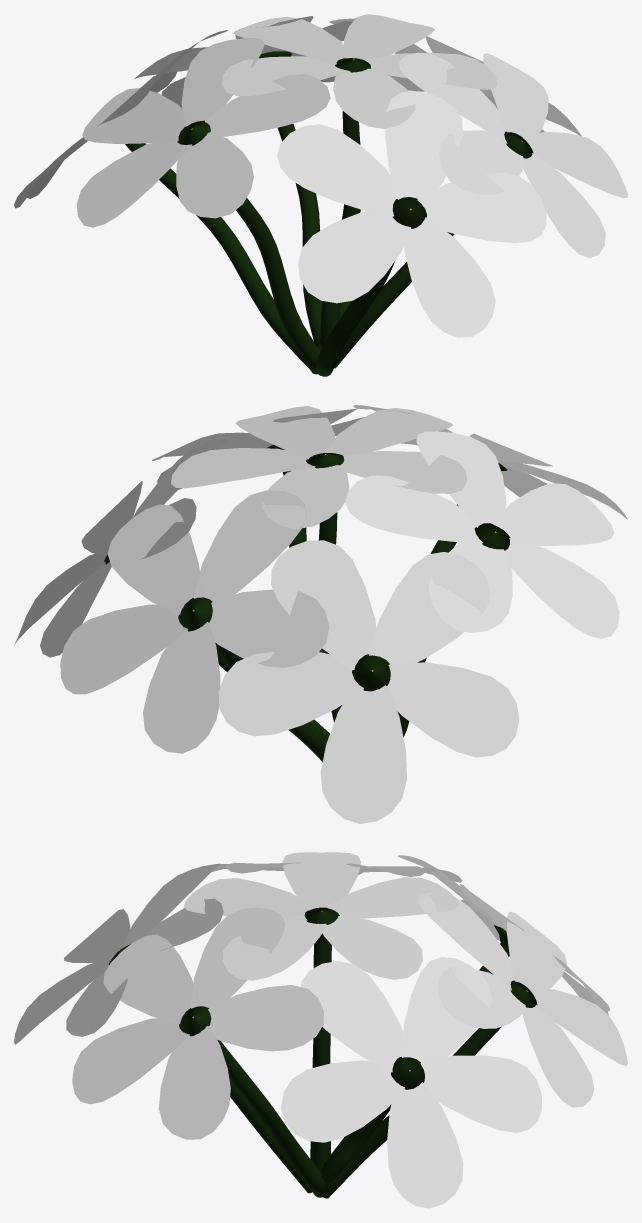
The model's file is Jasmine.fbx.
3 views of the same model, one above another, from view 1: azimuth 30°, elevation 25°; view 2: azimuth 150°, elevation 25°; view 3: azimuth 270°, elevation 25° (orthographic). The views are drawn at different scales.
Visible parts, largest first — view 1: Flower.003, Flower.001, Flower.002, Flower, Flower.005, Flower.004, Flower.006; view 2: Flower.005, Flower.004, Flower.001, Flower, Flower.006, Flower.003, Flower.002; view 3: Flower.006, Flower.002, Flower, Flower.004, Flower.003, Flower.005, Flower.001.
Boxes of the visible parts, x1,y1,x2,y2 form: Flower.003: (277, 90, 546, 376); Flower.001: (76, 37, 330, 374); Flower.002: (334, 52, 627, 368); Flower: (222, 14, 497, 347); Flower.005: (14, 30, 309, 368); Flower.004: (134, 16, 355, 345); Flower.006: (316, 18, 581, 351); Flower.005: (218, 540, 519, 823); Flower.004: (60, 490, 329, 761); Flower.001: (345, 431, 619, 737); Flower: (171, 406, 467, 710); Flower.006: (14, 438, 329, 738); Flower.003: (353, 405, 627, 553); Flower.002: (152, 408, 364, 722); Flower.006: (281, 957, 541, 1208); Flower.002: (72, 907, 325, 1197); Flower: (184, 852, 458, 1183); Flower.004: (320, 892, 627, 1198); Flower.003: (14, 863, 311, 1193); Flower.005: (331, 855, 609, 1154); Flower.001: (200, 862, 462, 1160).
Bounding box in the file's own units: 226 × 137 × 244.
